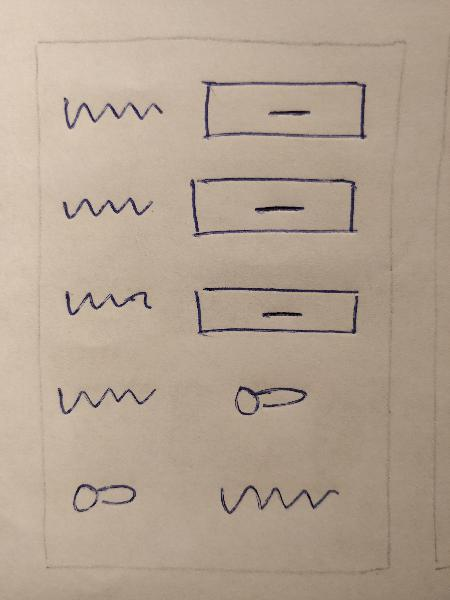button: (195, 70, 370, 150), (185, 162, 360, 242), (188, 268, 363, 348)
switch: (217, 370, 312, 426), (57, 463, 152, 519)
text: (212, 469, 342, 525), (210, 467, 340, 523), (52, 89, 168, 148), (51, 174, 167, 233), (53, 268, 169, 327), (51, 374, 167, 433)
